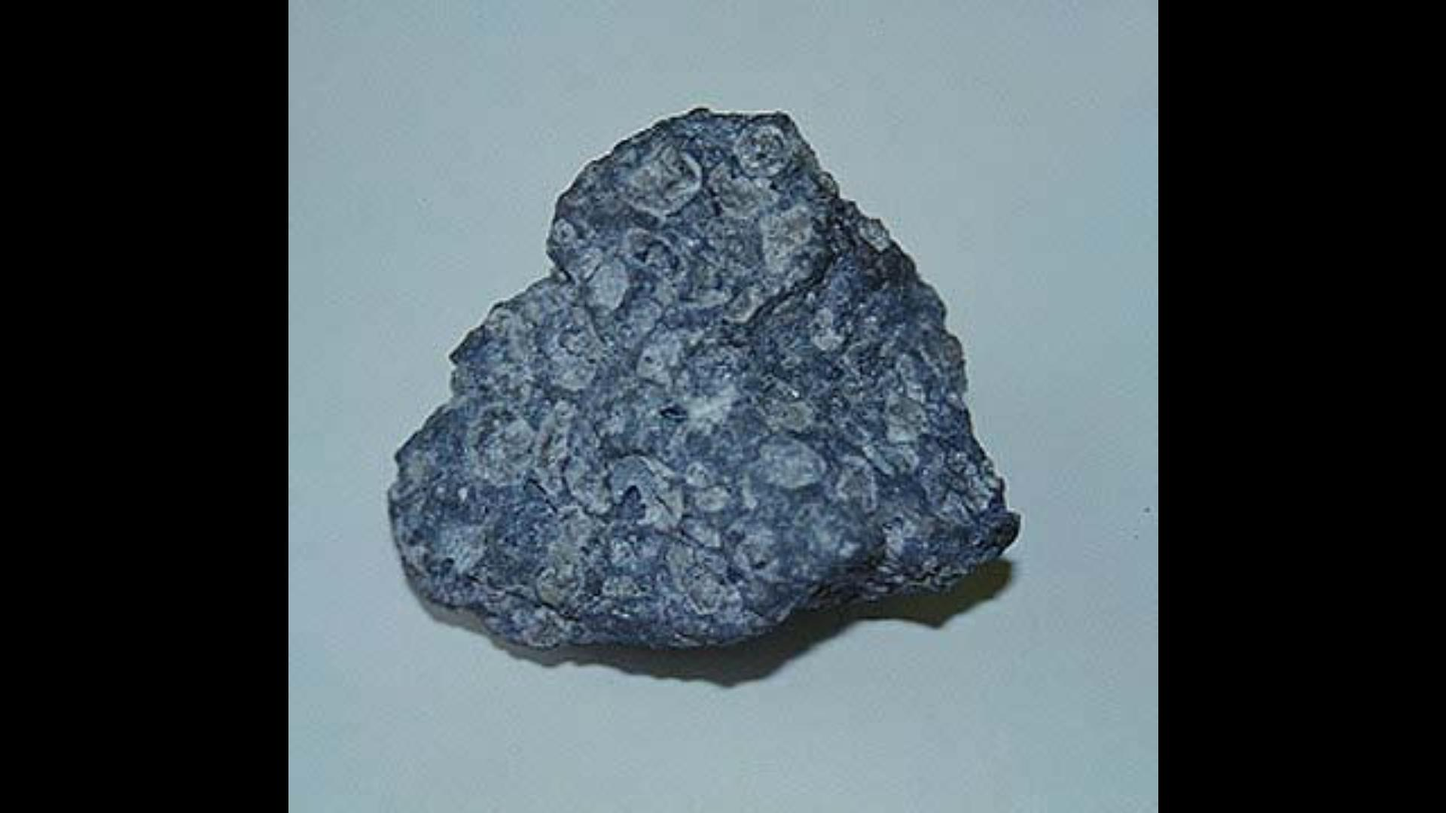rock: (389, 117, 1011, 644)
